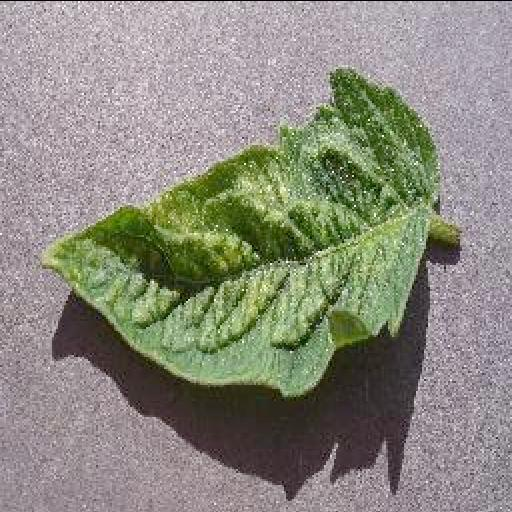disease_tomato: (38, 69, 444, 390)
